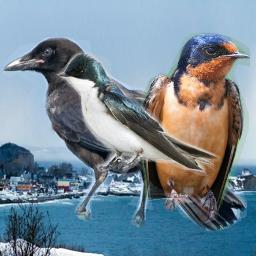Crow: (3, 37, 247, 231)
Swallow: (139, 32, 250, 224), (56, 50, 220, 176)
